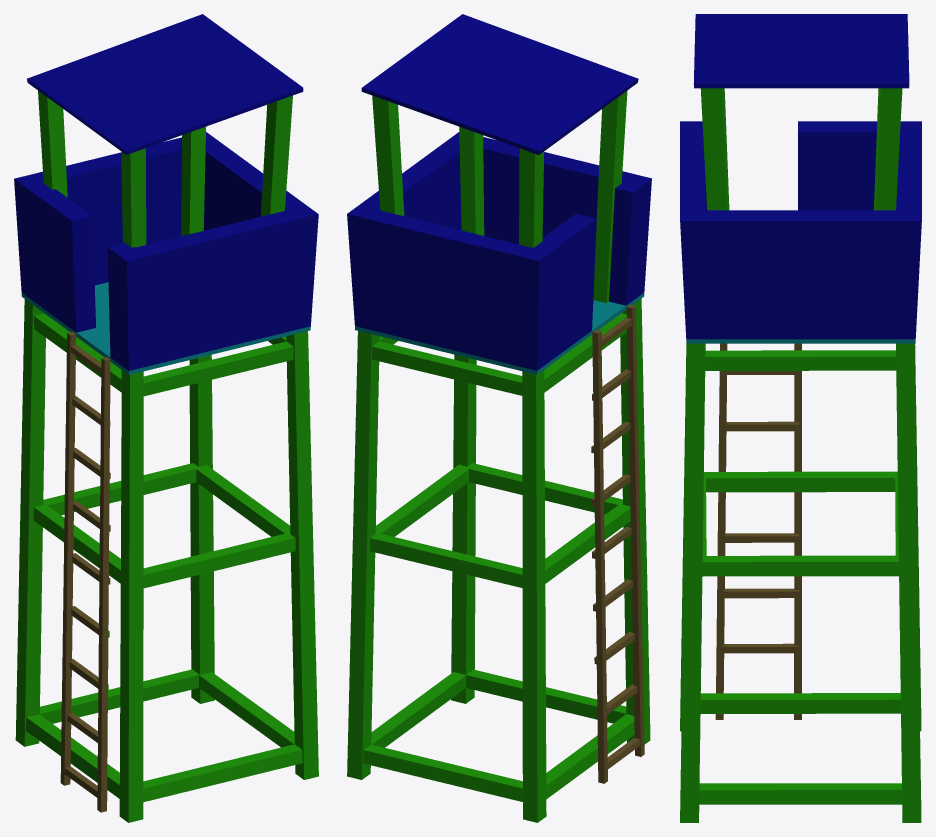
The model's file is Tower.FBX.
3 views of the same model, side by side, from view 1: azimuth 30°, elevation 25°; view 2: azimuth 150°, elevation 25°; view 3: azimuth 270°, elevation 25° (orthographic). The views are drawn at different scales.
Visible parts, largest first — view 1: Box002; view 2: Box002; view 3: Box002.
Boxes of the visible parts, x1,y1,x2,y2 form: Box002: [14, 14, 318, 822]; Box002: [347, 14, 651, 822]; Box002: [680, 14, 921, 822].
Size of the model in its own units: 22.16 by 72.19 by 21.54.
